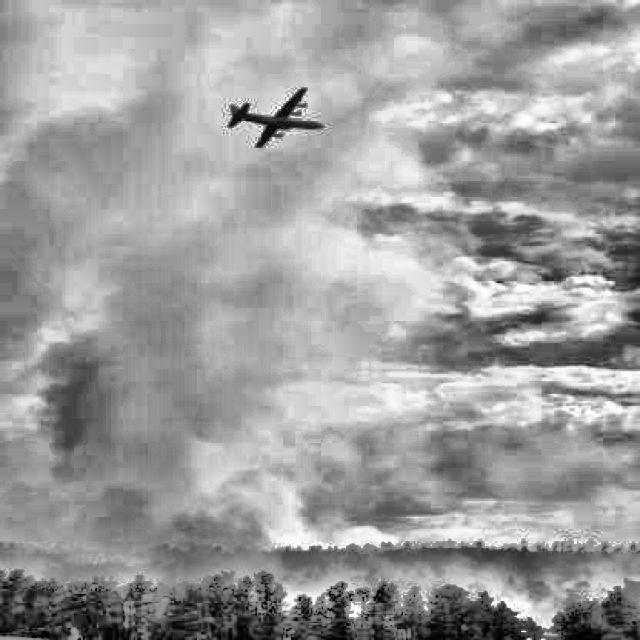C130: (228, 88, 324, 148)
